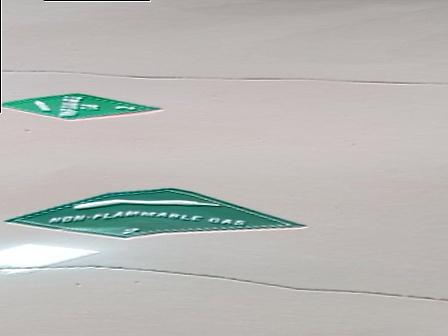non-flammable-gas: (5, 187, 305, 241), (1, 97, 163, 123)
